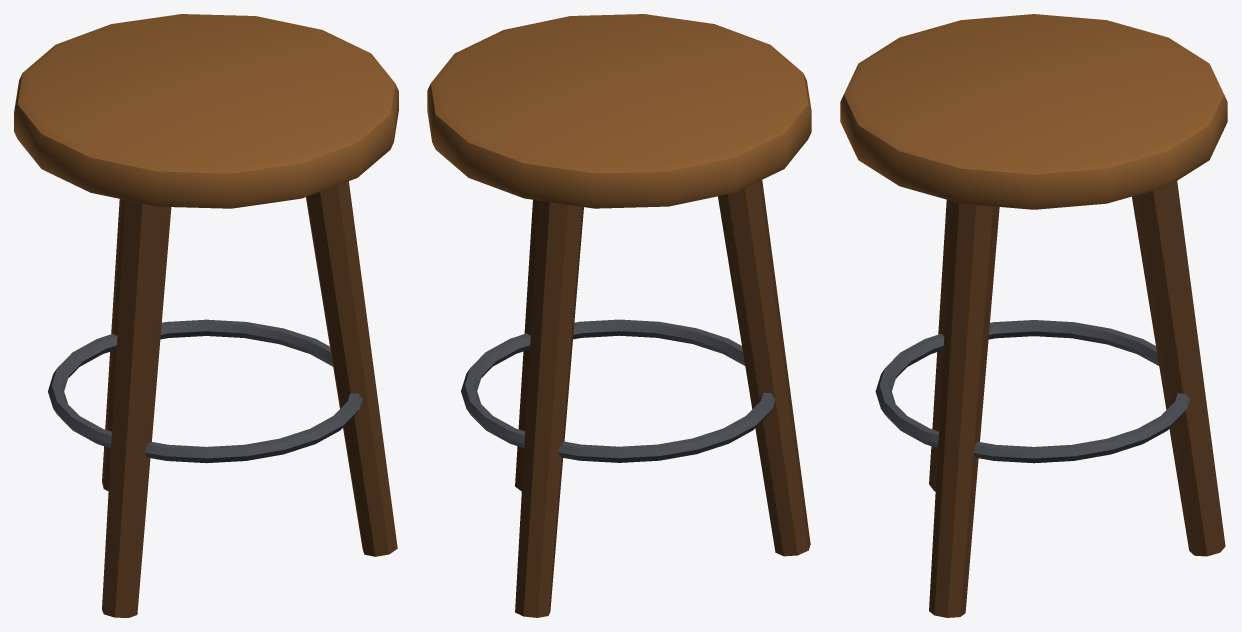
The model's file is wooden-stool_final.glb.
The picture shows the model from 3 angles, left to right: view 1: azimuth 30°, elevation 25°; view 2: azimuth 150°, elevation 25°; view 3: azimuth 270°, elevation 25°; orthographic projection.
Parts seen in each view (by area): view 1: SM_WoodenStool_Seat, SM_WoodenStool, SM_WoodenStool_Ring; view 2: SM_WoodenStool_Seat, SM_WoodenStool, SM_WoodenStool_Ring; view 3: SM_WoodenStool_Seat, SM_WoodenStool, SM_WoodenStool_Ring.
Part boxes in pixels (x1,y1,x2,y2): SM_WoodenStool_Seat: (14, 14, 398, 208); SM_WoodenStool: (102, 181, 397, 617); SM_WoodenStool_Ring: (48, 319, 362, 463); SM_WoodenStool_Seat: (427, 14, 811, 208); SM_WoodenStool: (515, 180, 810, 617); SM_WoodenStool_Ring: (461, 319, 775, 462); SM_WoodenStool_Seat: (840, 14, 1227, 209); SM_WoodenStool: (929, 181, 1225, 617); SM_WoodenStool_Ring: (875, 320, 1189, 463).
Bounding box in the file's own units: 0.38 × 0.4974 × 0.38.
